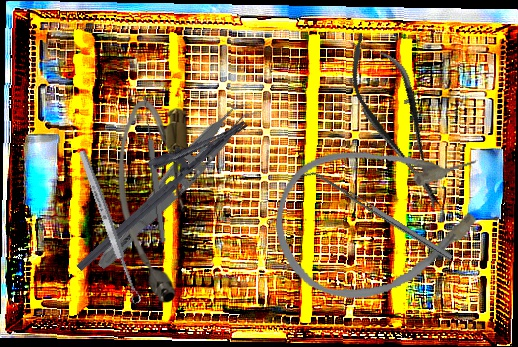Cannula: (262, 122, 502, 314), (117, 101, 188, 304)
Micro Scissor: (333, 23, 461, 221)
Needle Holder: (55, 96, 250, 273)
Spatula Surgical: (301, 165, 454, 267)
Surgical Spoon: (76, 149, 143, 305), (141, 95, 167, 243)
Tissue Forceps: (91, 90, 264, 284)
